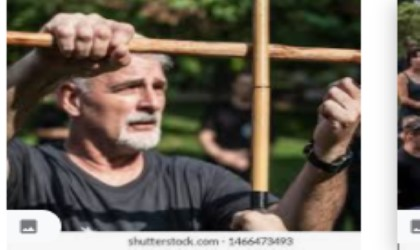baston_e: (36, 28, 344, 64), (246, 6, 275, 164)
baston_v: (243, 174, 277, 225), (3, 20, 29, 48), (348, 40, 369, 71)
